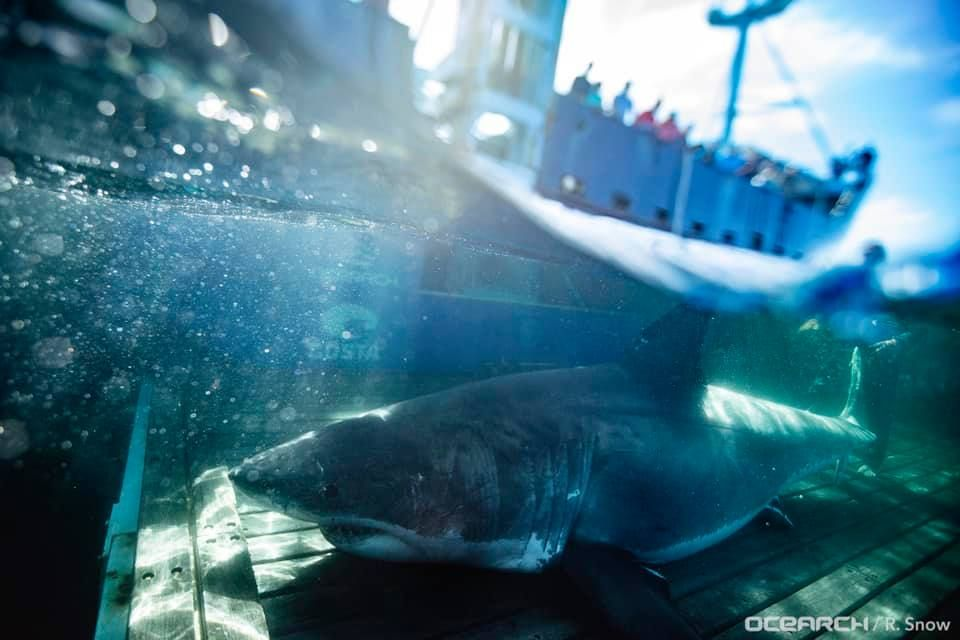shark: (225, 291, 919, 581)
